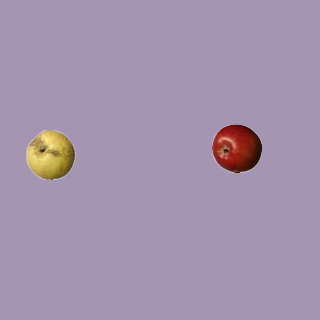Apple Braeburn: (211, 123, 261, 173)
Apple Golden 1: (25, 129, 75, 179)
